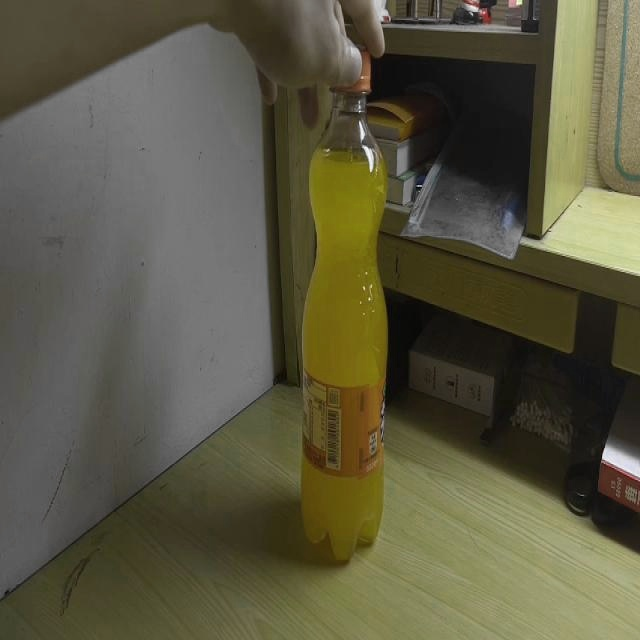Fanta: (299, 41, 388, 564)
